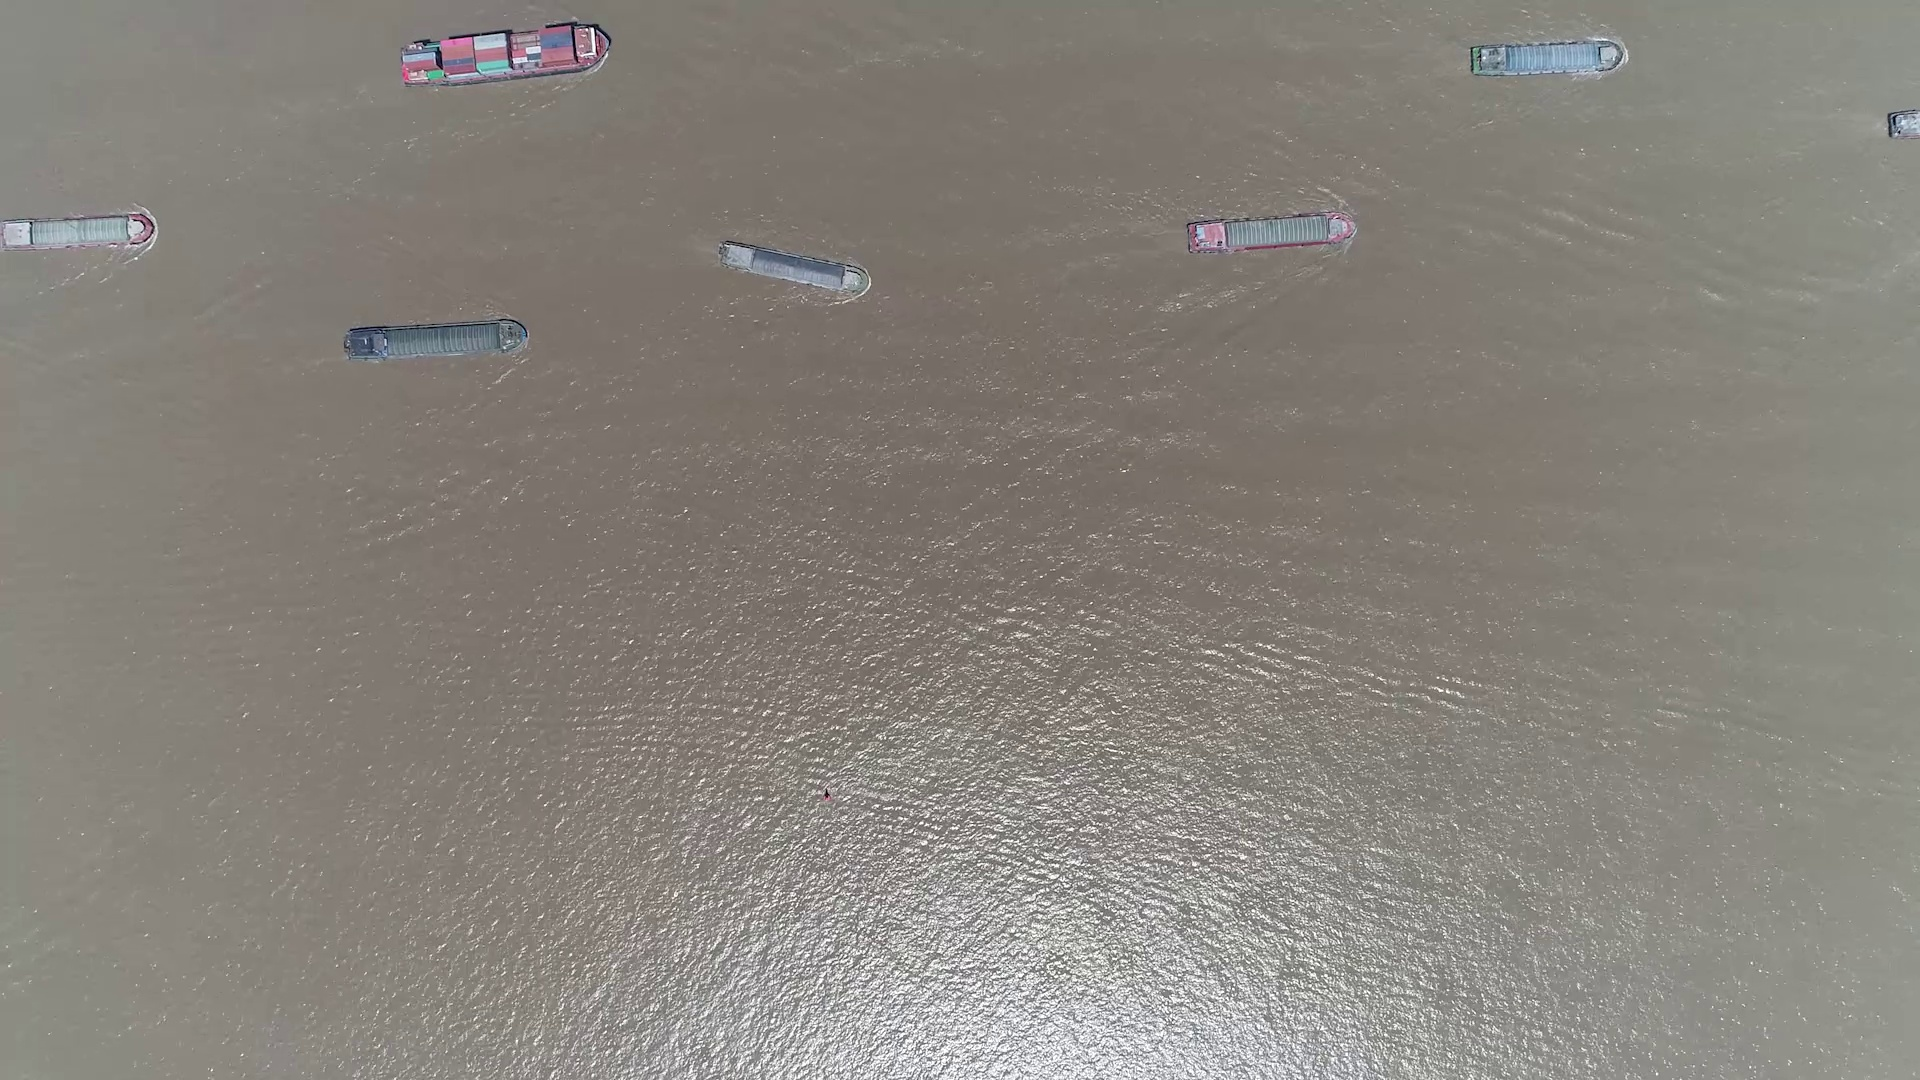ship: (400, 25, 608, 86), (719, 240, 869, 293), (344, 320, 526, 363), (1185, 214, 1357, 255), (3, 216, 153, 249)
